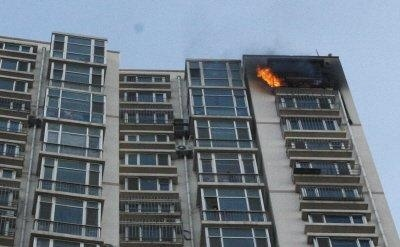fire: (255, 62, 284, 88)
